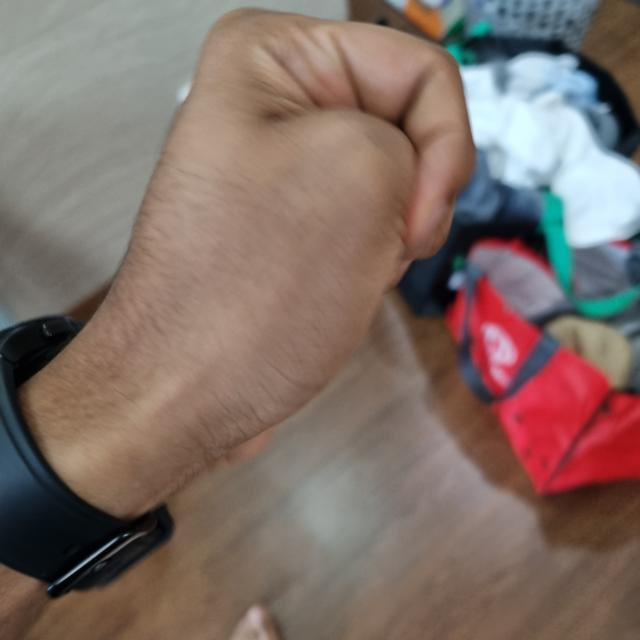Rock: (98, 6, 473, 440)
